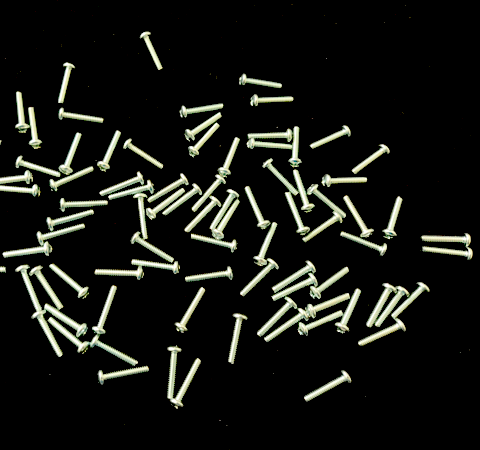longscrew: (169, 358, 203, 411), (256, 297, 298, 339), (47, 317, 91, 357), (303, 370, 353, 405), (263, 308, 310, 345), (31, 310, 65, 359), (48, 263, 91, 301), (90, 335, 141, 367), (29, 266, 65, 311), (44, 304, 90, 339), (240, 258, 280, 298), (390, 281, 431, 320), (174, 287, 208, 334), (271, 260, 317, 294), (364, 283, 398, 329), (261, 158, 300, 197), (130, 231, 176, 264), (375, 285, 410, 328), (14, 265, 44, 315), (357, 319, 407, 349), (184, 196, 223, 234), (191, 174, 228, 214), (307, 184, 348, 220), (309, 267, 351, 302), (162, 183, 203, 218), (92, 285, 120, 336), (297, 310, 344, 340), (343, 195, 375, 239), (146, 188, 187, 222), (271, 273, 319, 302), (123, 138, 165, 171), (301, 212, 343, 245), (333, 289, 363, 335), (340, 231, 389, 259), (146, 173, 190, 204), (209, 189, 240, 231), (187, 122, 222, 159), (211, 199, 242, 240), (284, 192, 312, 237), (184, 111, 223, 143), (97, 365, 151, 388), (49, 167, 94, 194), (252, 222, 279, 267), (244, 186, 271, 231), (306, 293, 351, 320), (351, 144, 390, 175), (36, 223, 86, 247), (99, 172, 146, 197), (309, 125, 352, 152), (15, 155, 63, 179), (189, 232, 239, 255), (96, 131, 123, 173), (292, 169, 317, 214), (381, 196, 406, 241), (227, 313, 248, 366), (47, 209, 95, 232), (59, 132, 83, 176), (109, 180, 156, 202), (139, 31, 164, 72), (2, 241, 53, 261), (184, 265, 235, 285), (165, 345, 183, 400), (217, 137, 241, 178), (420, 246, 474, 264), (131, 259, 181, 277), (57, 62, 77, 106), (179, 102, 225, 121), (94, 266, 145, 283), (58, 107, 106, 125), (59, 197, 109, 214), (132, 193, 150, 240), (238, 73, 284, 91), (419, 233, 473, 248), (321, 173, 368, 190), (14, 91, 31, 135), (287, 125, 304, 169), (247, 127, 293, 143), (250, 94, 295, 110), (28, 106, 44, 150), (247, 138, 293, 153), (0, 183, 41, 199), (0, 170, 35, 188), (0, 261, 9, 278), (0, 138, 3, 150)
